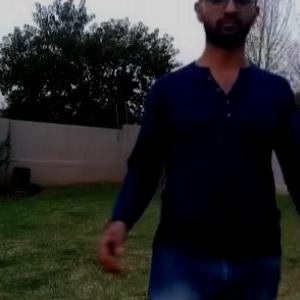follow: (137, 0, 299, 299)
